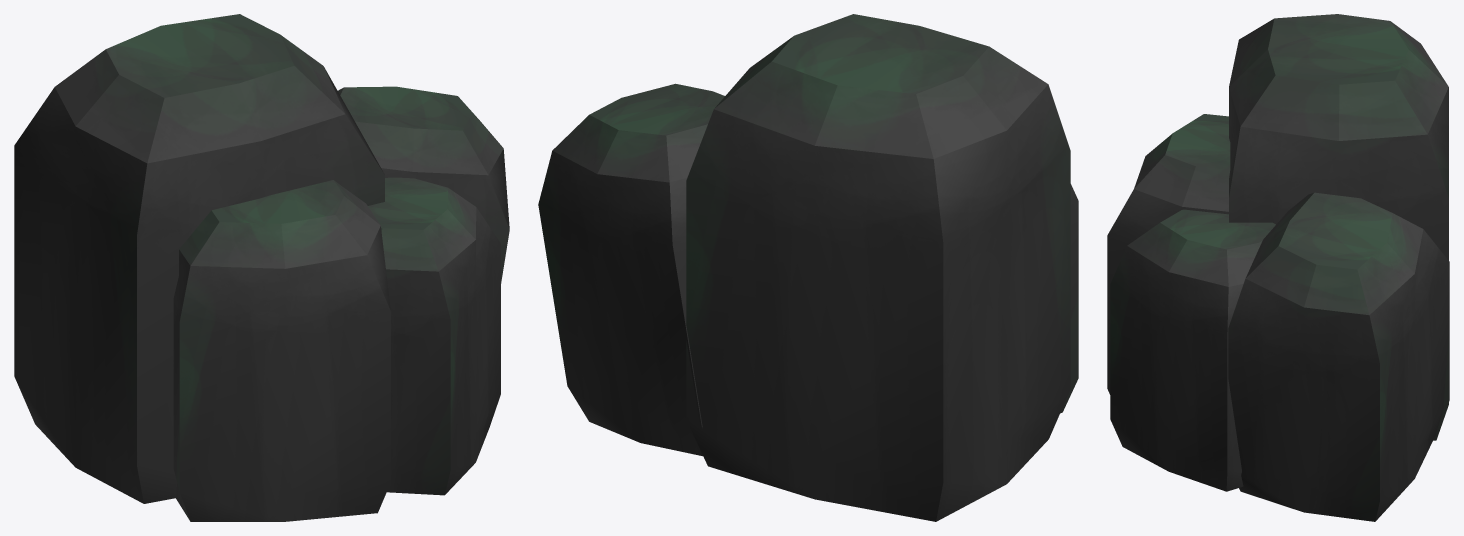
The model's file is Trash.FBX.
The picture shows the model from 3 angles, left to right: view 1: azimuth 30°, elevation 25°; view 2: azimuth 150°, elevation 25°; view 3: azimuth 270°, elevation 25°; orthographic projection. The views are drawn at different scales.
Parts seen in each view (by area): view 1: trash; view 2: trash; view 3: trash.
Part boxes in pixels (bbox=[...]): trash: bbox=[14, 14, 509, 521]; trash: bbox=[538, 14, 1078, 521]; trash: bbox=[1107, 14, 1449, 521].
Bounding box in the file's own units: 1.17 × 0.9055 × 1.05.
